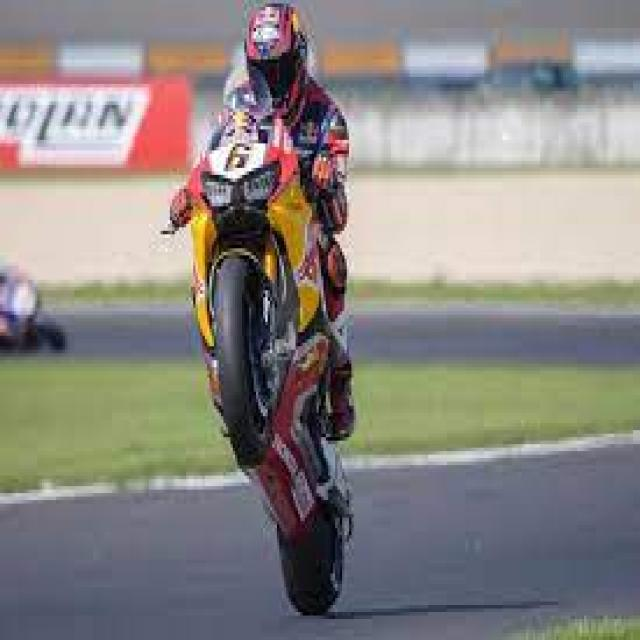Wheeling: (176, 7, 407, 640)
